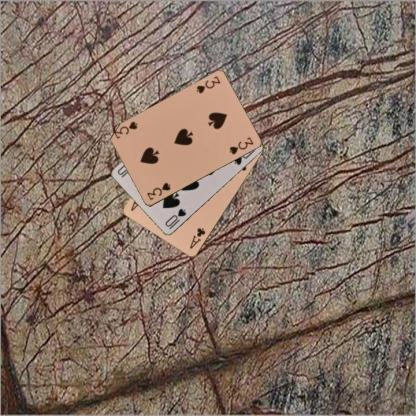10s: (162, 206, 188, 228)
3s: (144, 180, 172, 202), (194, 73, 221, 95)
Ac: (187, 226, 207, 250)
